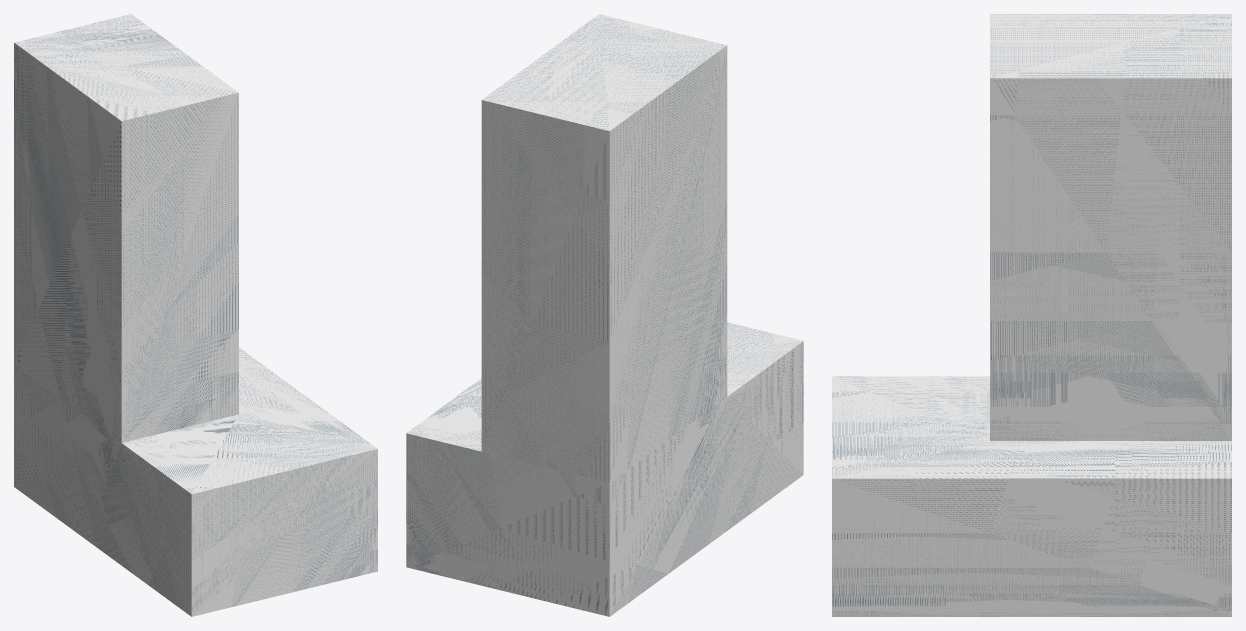
The picture shows the model from 3 angles, left to right: view 1: azimuth 30°, elevation 25°; view 2: azimuth 150°, elevation 25°; view 3: azimuth 270°, elevation 25°; orthographic projection. The views are drawn at different scales.
Visible parts, largest first — view 1: SketchUp; view 2: SketchUp; view 3: SketchUp.
Boxes of the visible parts, x1,y1,x2,y2 form: SketchUp: [14, 14, 377, 616]; SketchUp: [406, 14, 803, 616]; SketchUp: [832, 14, 1231, 616].
Size of the model in its own units: 5.31 by 8.78 by 12.13.
